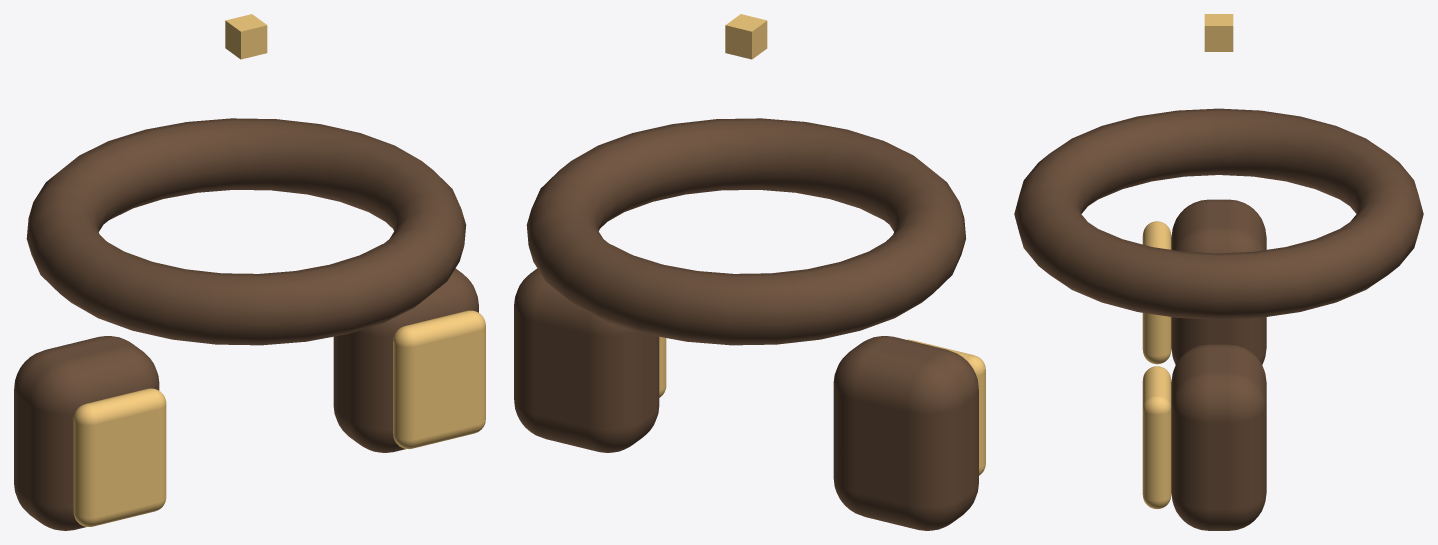
3 renders of one model, left to right at view 1: azimuth 30°, elevation 25°; view 2: azimuth 150°, elevation 25°; view 3: azimuth 270°, elevation 25°, orthographic. The views are drawn at different scales.
Visible parts, largest first — view 1: headphone-body, earcup-left, earpad-left, earpad-right, earcup-right, headphone-trim; view 2: headphone-body, earcup-left, earcup-right, headphone-trim, earpad-left; view 3: headphone-body, earcup-right, earcup-left, earpad-right, earpad-left, headphone-trim.
Part boxes in pixels (x1,y1,x2,y2): headphone-body: (26,118,466,345); earcup-left: (14,336,159,530); earpad-left: (73,388,166,526); earpad-right: (393,310,485,449); earcup-right: (333,268,478,452); headphone-trim: (225,14,267,59); headphone-body: (526,118,966,345); earcup-left: (833,336,978,530); earcup-right: (514,268,659,452); headphone-trim: (725,14,767,59); earpad-left: (907,339,985,475); headphone-body: (1014,108,1423,319); earcup-right: (1171,344,1266,530); earcup-left: (1171,199,1266,364); earpad-right: (1142,366,1171,509); earpad-left: (1142,221,1171,364); headphone-trim: (1204,14,1233,51).
Size of the model in its own units: 0.2 by 0.196 by 0.172.
